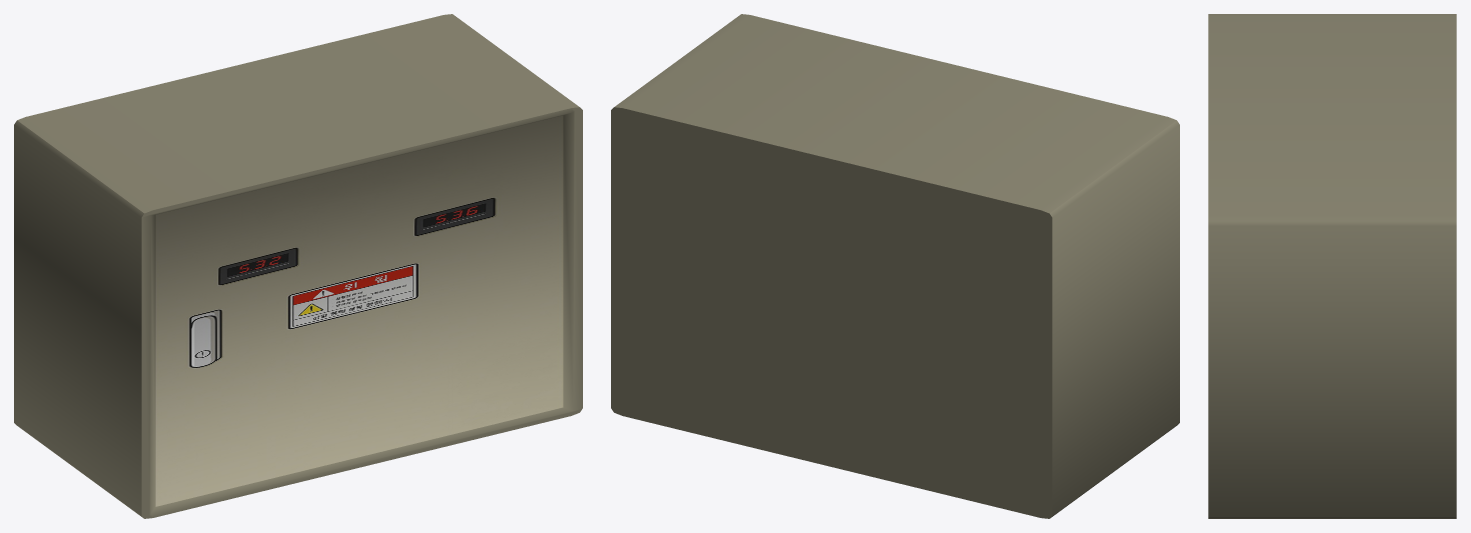
The picture shows the model from 3 angles, left to right: view 1: azimuth 30°, elevation 25°; view 2: azimuth 150°, elevation 25°; view 3: azimuth 270°, elevation 25°; orthographic projection. The views are drawn at different scales.
Parts seen in each view (by area): view 1: RM1-WH02W030D015_01; view 2: RM1-WH02W030D015_01; view 3: RM1-WH02W030D015_01.
Part boxes in pixels (box(x1,y1,x2,y2)): RM1-WH02W030D015_01: box(14, 14, 582, 518); RM1-WH02W030D015_01: box(611, 14, 1179, 518); RM1-WH02W030D015_01: box(1208, 14, 1456, 518).
Size of the model in its own units: 0.3 by 0.2 by 0.15.
2 materials, 1 textured.
